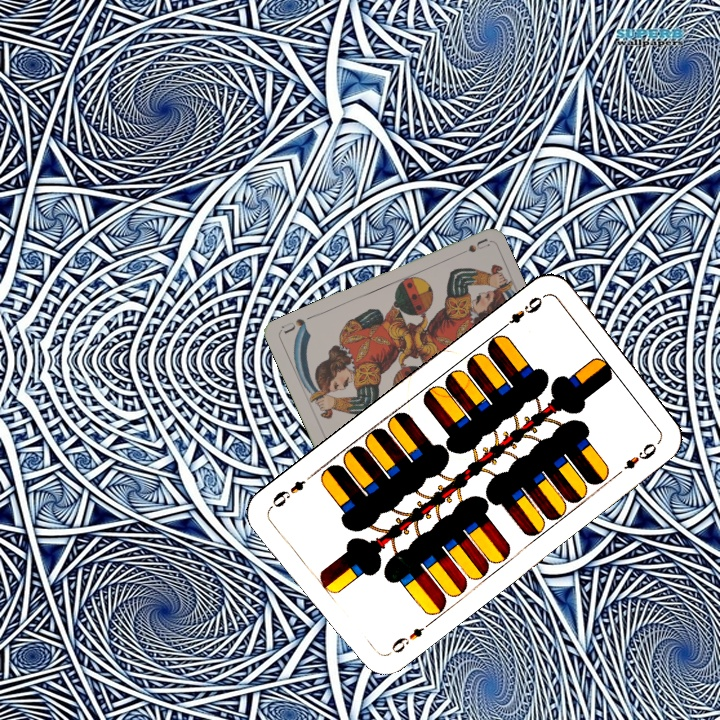E9: (381, 618, 433, 659), (496, 292, 547, 333)
SU: (451, 235, 491, 260)
